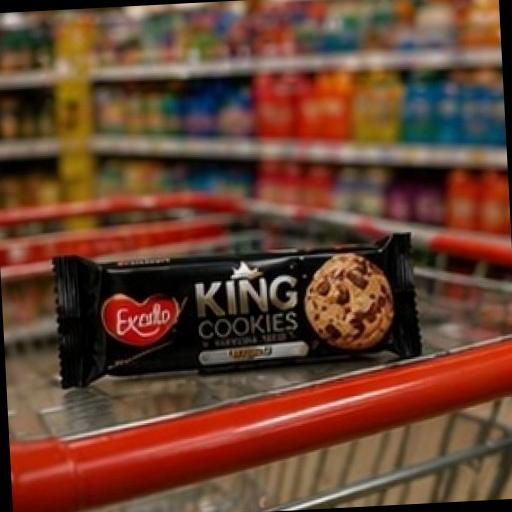king_cooking: (16, 196, 490, 428)
